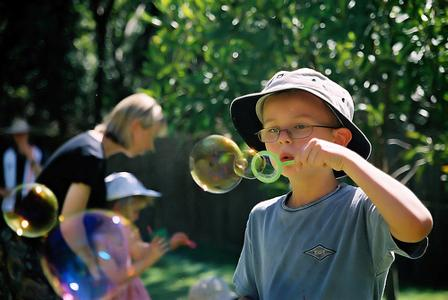person: (219, 70, 435, 298)
